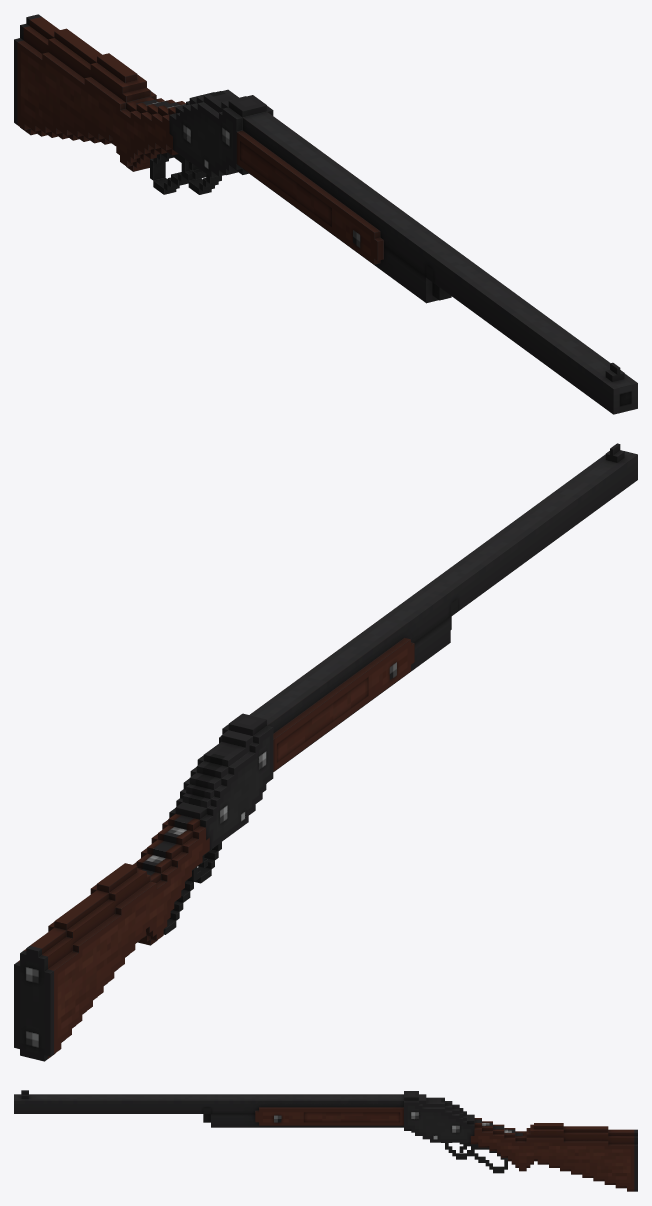
3 renders of one model, top to bottom at view 1: azimuth 30°, elevation 25°; view 2: azimuth 150°, elevation 25°; view 3: azimuth 270°, elevation 25°, orthographic. The views are drawn at different scales.
Parts seen in each view (by area): view 1: WINCHESTER_M1887, WINCHESTER_M1887_TRIGGER; view 2: WINCHESTER_M1887, WINCHESTER_M1887_TRIGGER; view 3: WINCHESTER_M1887, WINCHESTER_M1887_TRIGGER.
Boxes of the visible parts, x1,y1,x2,y2 form: WINCHESTER_M1887: (14,14,637,414); WINCHESTER_M1887_TRIGGER: (150,89,245,194); WINCHESTER_M1887: (14,443,637,1061); WINCHESTER_M1887_TRIGGER: (163,730,252,934); WINCHESTER_M1887: (14,1090,637,1191); WINCHESTER_M1887_TRIGGER: (419,1094,507,1173).
Bounding box in the file's own units: 0.059 × 0.2854 × 1.65.
Materials: 1 (1 with a texture image).
